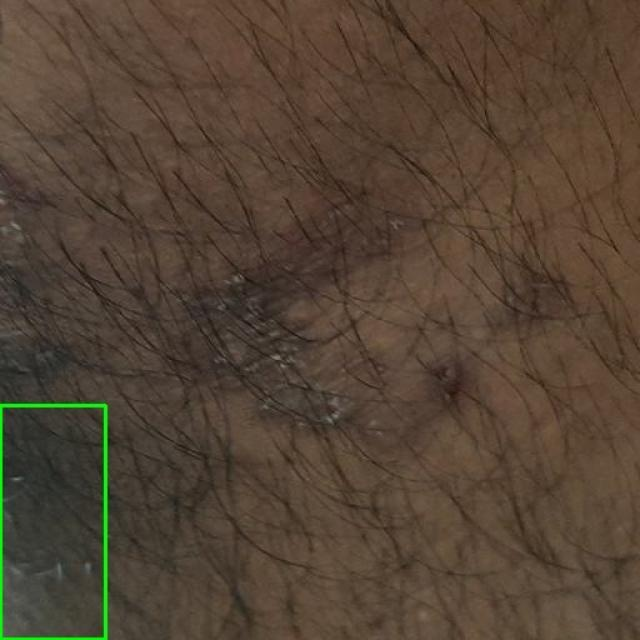Tinea Corporis: (0, 405, 105, 639)
